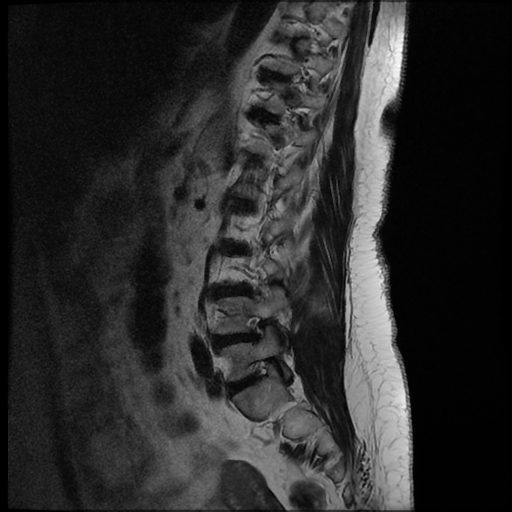LFS2: (240, 307, 274, 350)
